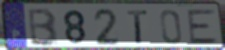0: (159, 9, 184, 46)
2: (94, 8, 121, 47)
8: (62, 9, 88, 46)
B: (27, 7, 60, 47)
E: (186, 8, 220, 46)
T: (126, 9, 149, 45)
